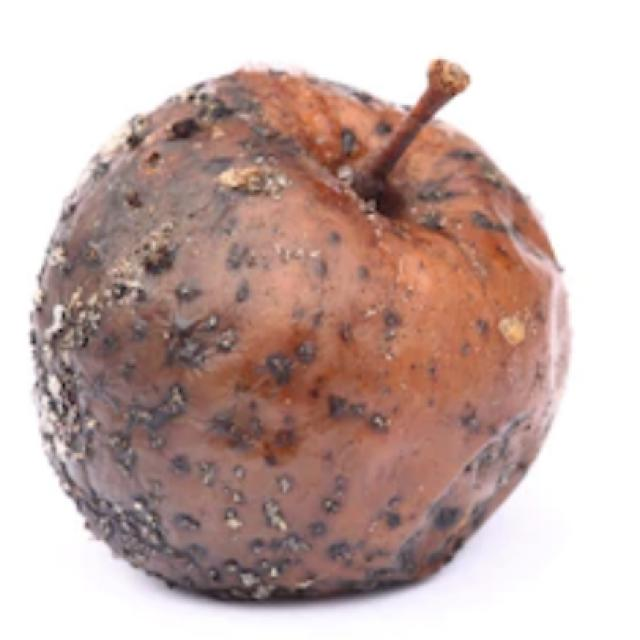rotten_apple: (28, 52, 570, 614)
